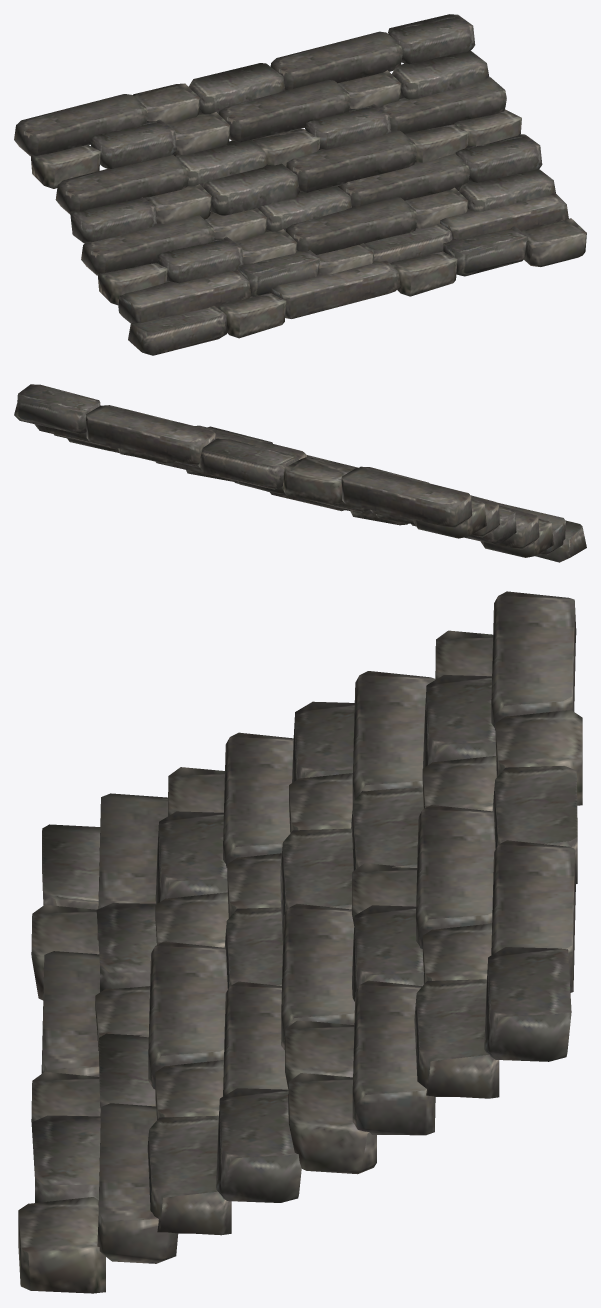
Rendered from SC_SLstone09.FBX.
3 renders of one model, top to bottom at view 1: azimuth 30°, elevation 25°; view 2: azimuth 150°, elevation 25°; view 3: azimuth 270°, elevation 25°, orthographic. The views are drawn at different scales.
Visible parts, largest first — view 1: SC_SLstone09; view 2: SC_SLstone09; view 3: SC_SLstone09.
Part boxes in pixels (x1,y1,x2,y2): SC_SLstone09: [14, 14, 586, 355]; SC_SLstone09: [14, 384, 586, 562]; SC_SLstone09: [18, 591, 582, 1293].
Bounding box in the file's own units: 389 × 120 × 214.
